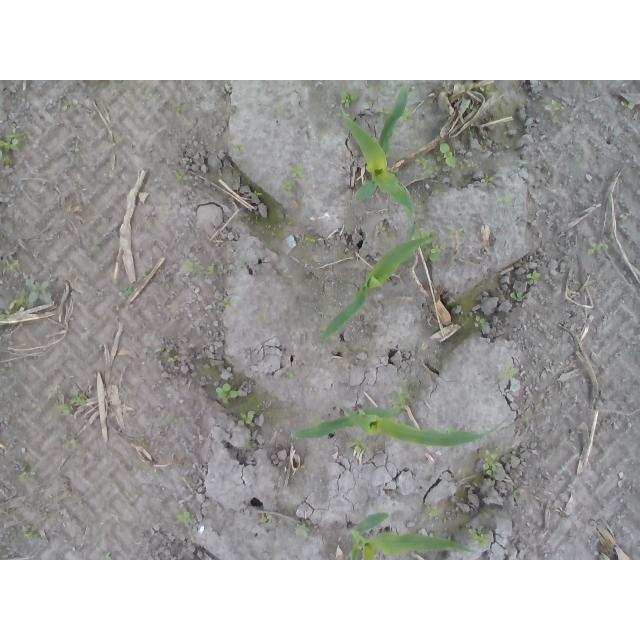Maize: (338, 85, 415, 228), (323, 238, 421, 347), (291, 405, 489, 449), (346, 512, 478, 560)
Weeds: (0, 126, 24, 166), (24, 278, 54, 305), (390, 383, 415, 411), (438, 142, 459, 169), (468, 526, 495, 547), (216, 383, 240, 406), (423, 241, 448, 263), (482, 447, 502, 473), (349, 431, 368, 453), (496, 361, 518, 380), (587, 239, 610, 257), (238, 406, 257, 426), (416, 156, 435, 176), (1, 260, 19, 280), (175, 511, 194, 529), (16, 464, 37, 480), (11, 290, 30, 307), (339, 88, 358, 105), (444, 223, 464, 238), (23, 525, 40, 542), (295, 232, 318, 244), (287, 162, 304, 178), (183, 259, 201, 274), (175, 170, 193, 185), (399, 106, 415, 122), (543, 97, 561, 111), (473, 315, 489, 330), (68, 386, 80, 405), (510, 288, 526, 302), (222, 296, 239, 309), (55, 403, 73, 415), (479, 84, 497, 96), (527, 271, 542, 285), (281, 180, 297, 192), (425, 506, 439, 519), (64, 439, 81, 449), (170, 98, 182, 112), (119, 287, 134, 297), (481, 174, 495, 184), (296, 522, 305, 536), (342, 407, 354, 417), (415, 230, 429, 238), (466, 160, 478, 169), (249, 191, 264, 198), (62, 99, 72, 109), (310, 414, 321, 423), (259, 515, 270, 524), (206, 264, 218, 272), (38, 512, 48, 521), (255, 400, 265, 409), (247, 440, 257, 449), (467, 104, 478, 112), (379, 107, 391, 114), (512, 488, 521, 497), (375, 224, 385, 231), (286, 371, 295, 378), (1, 312, 8, 320), (105, 552, 111, 560), (298, 466, 307, 471), (352, 272, 357, 280), (236, 144, 241, 152)
